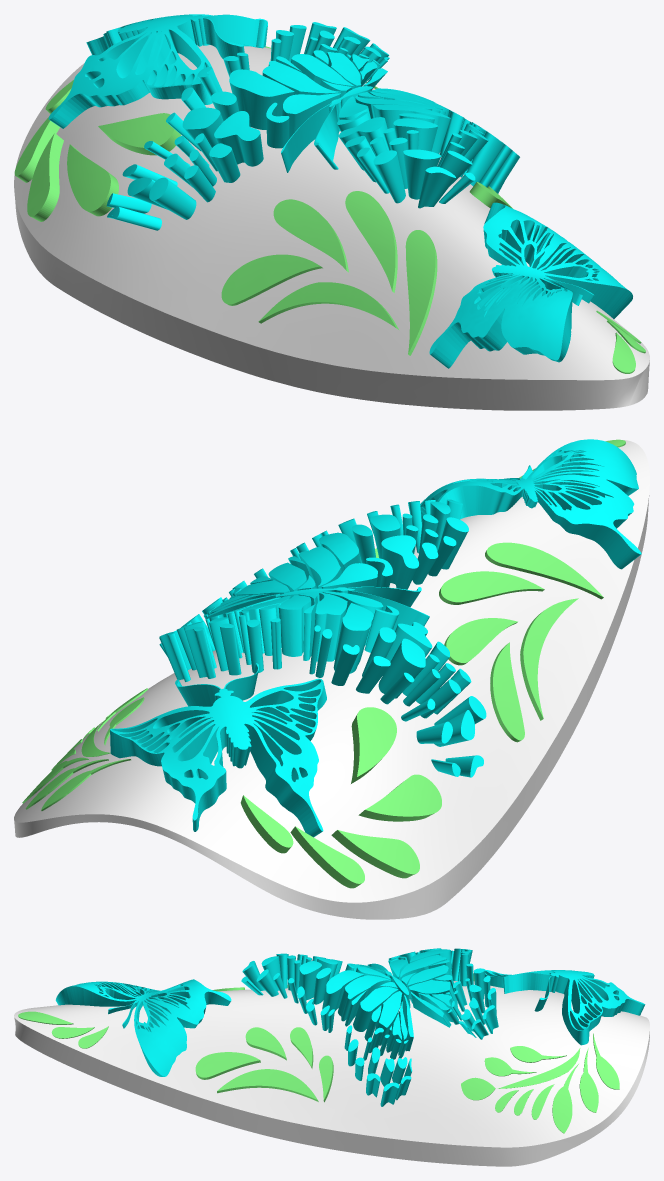
File: butterfly-cove-stiletto-web.glb
3 views of the same model, one above another, from view 1: azimuth 30°, elevation 25°; view 2: azimuth 150°, elevation 25°; view 3: azimuth 270°, elevation 25° (orthographic). The views are drawn at different scales.
Bounding box in the file's own units: 0.0139 × 0.0075 × 0.0301.
